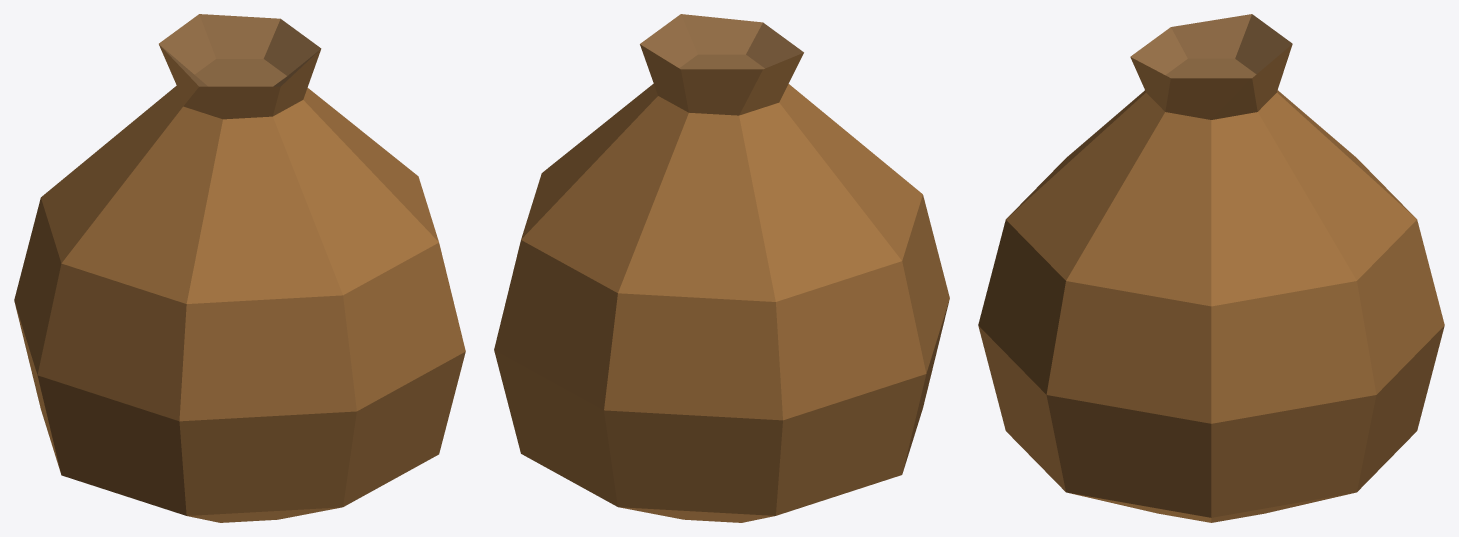
Rendered from SM_Envr_Nature_Farm_Vegetable_Onion.fbx.
3 renders of one model, left to right at view 1: azimuth 30°, elevation 25°; view 2: azimuth 150°, elevation 25°; view 3: azimuth 270°, elevation 25°, orthographic.
Visible parts, largest first — view 1: SM_Envr_Nature_Farm_Vegetable_Onion; view 2: SM_Envr_Nature_Farm_Vegetable_Onion; view 3: SM_Envr_Nature_Farm_Vegetable_Onion.
Part boxes in pixels (left/top/right/bottom): SM_Envr_Nature_Farm_Vegetable_Onion: left=14, top=14, right=465, bottom=522; SM_Envr_Nature_Farm_Vegetable_Onion: left=494, top=14, right=949, bottom=522; SM_Envr_Nature_Farm_Vegetable_Onion: left=978, top=14, right=1444, bottom=522.
Bounding box in the file's own units: 7.6 × 8.38 × 7.6.
